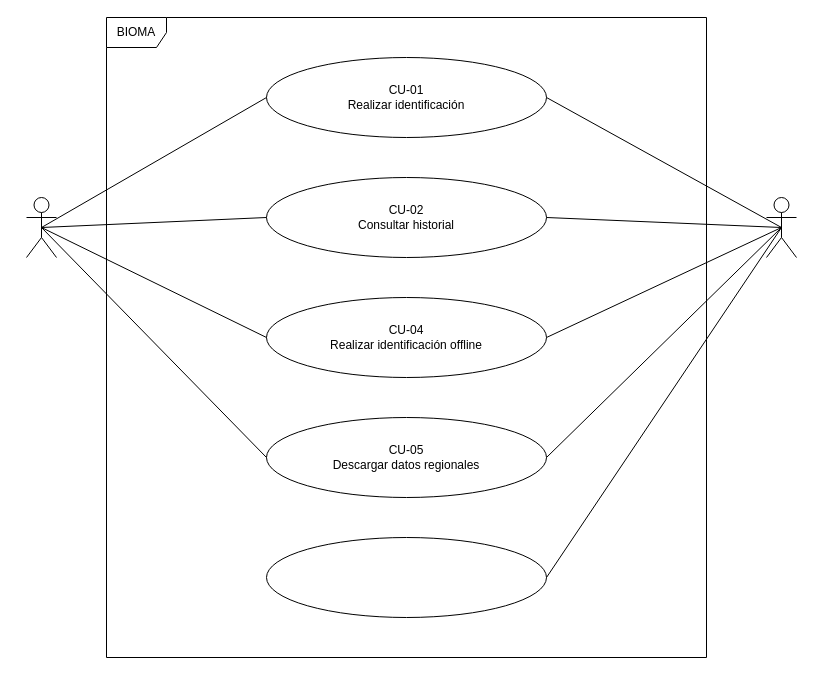
This 825x675 diagram has some shape labels left out. Each missing label, with the centre of its shape:
"CU-03 Registrar observación avanzada" goes at pixel 406 577.
"Usuario Avanzado" goes at pixel 781 227.
"Usuario Estándar" goes at pixel 41 227.
